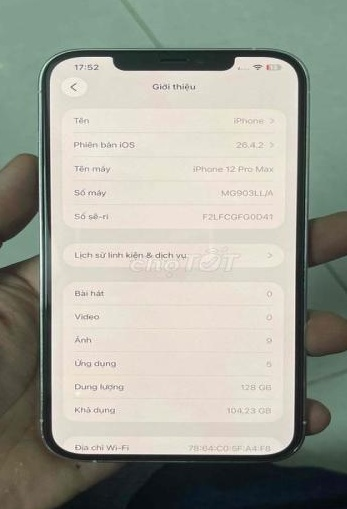scratch: (31, 383, 55, 443)
